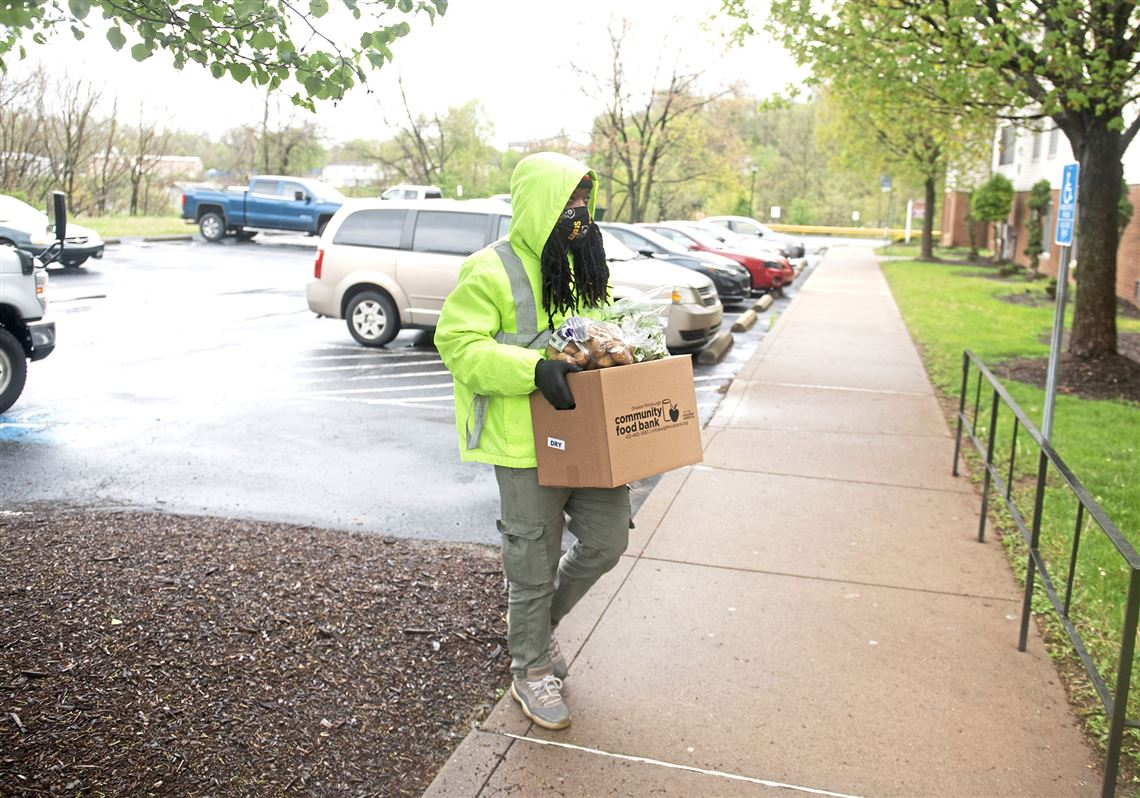Car: (287, 182, 493, 335), (177, 145, 345, 255)
DeliveryBox: (514, 355, 740, 506)
Person: (440, 150, 652, 741)
Tree: (759, 12, 1140, 396)
